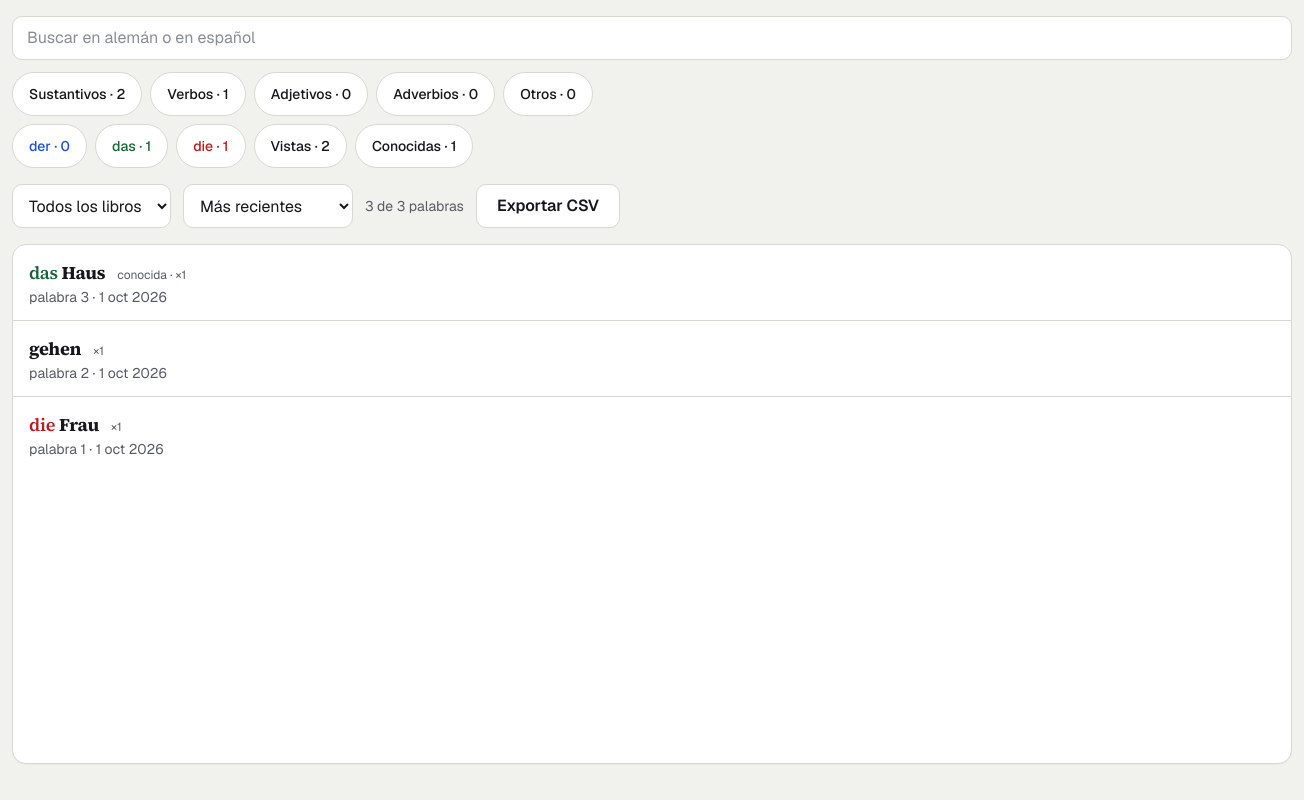
it: DictionaryView (RF-30, RF-31, RF-29) › los filtros se combinan, muestran conteos y se guardan en la URL
Click the button "Sustantivos · 2": [77, 94] box [12,72,142,116]
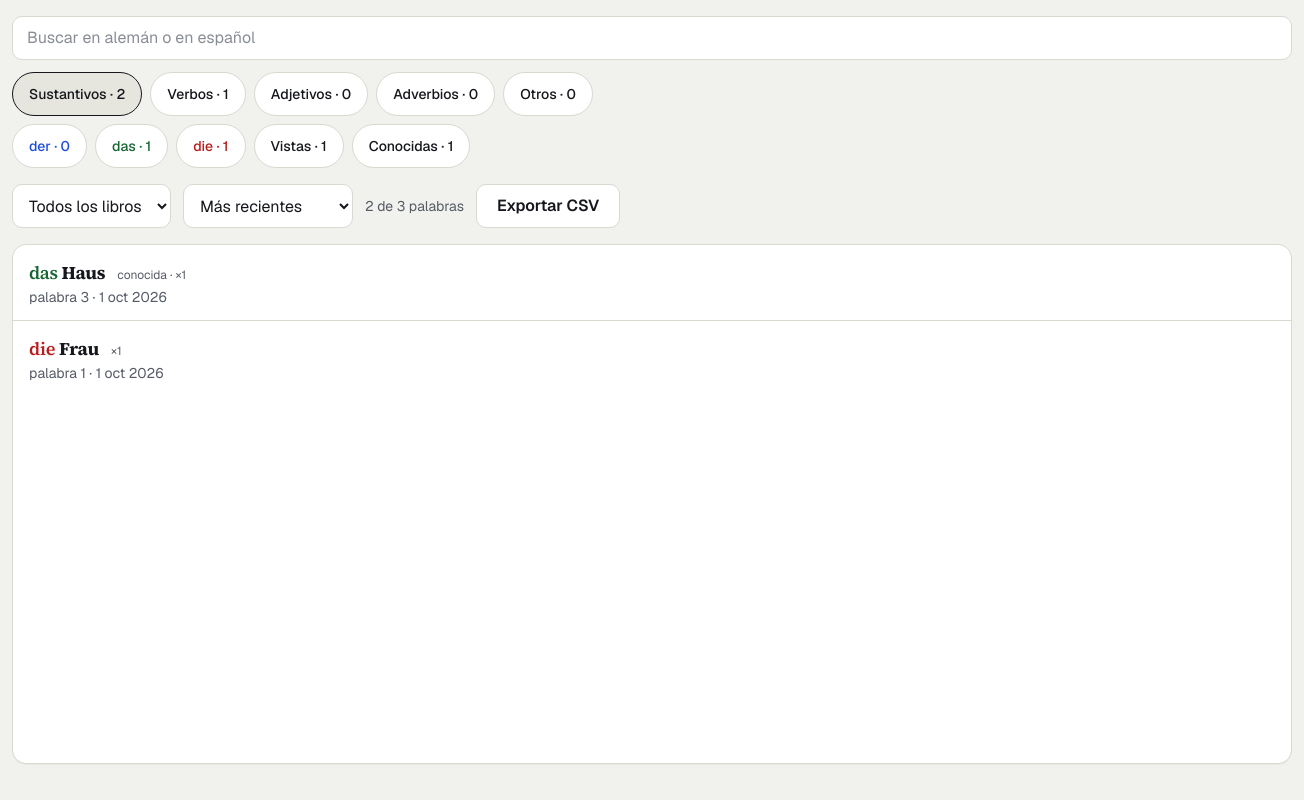
Click the button "Vistas · 1": [299, 146] box [254,124,344,168]
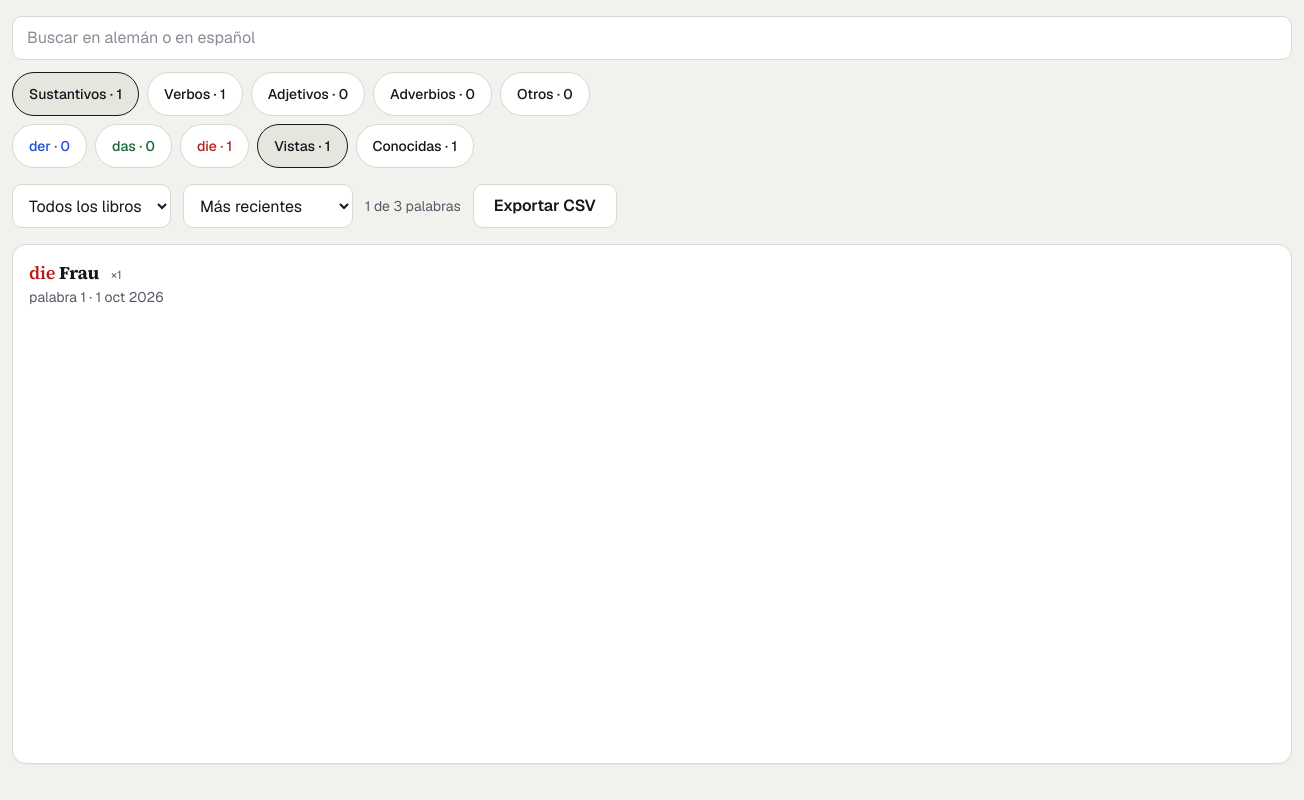
Expected: the text "1 de 3 palabras" is shown, [365,196,461,216]
